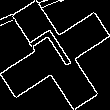L_SE: (28, 25, 82, 85)
